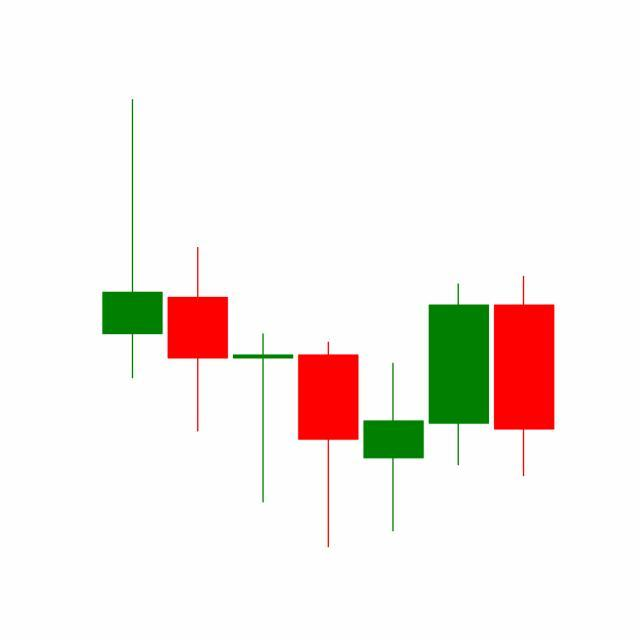Hikkake Pattern: (165, 243, 492, 549)
